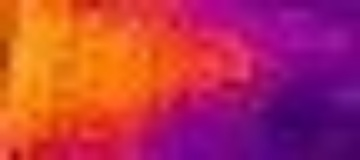Shadow: (172, 1, 359, 92), (145, 91, 360, 160)
